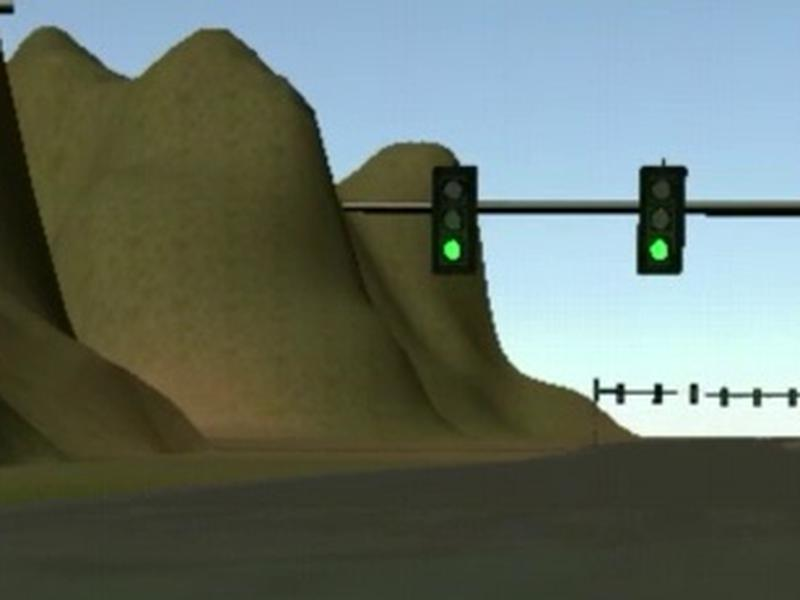Green: (636, 165, 688, 274), (430, 165, 479, 274)
